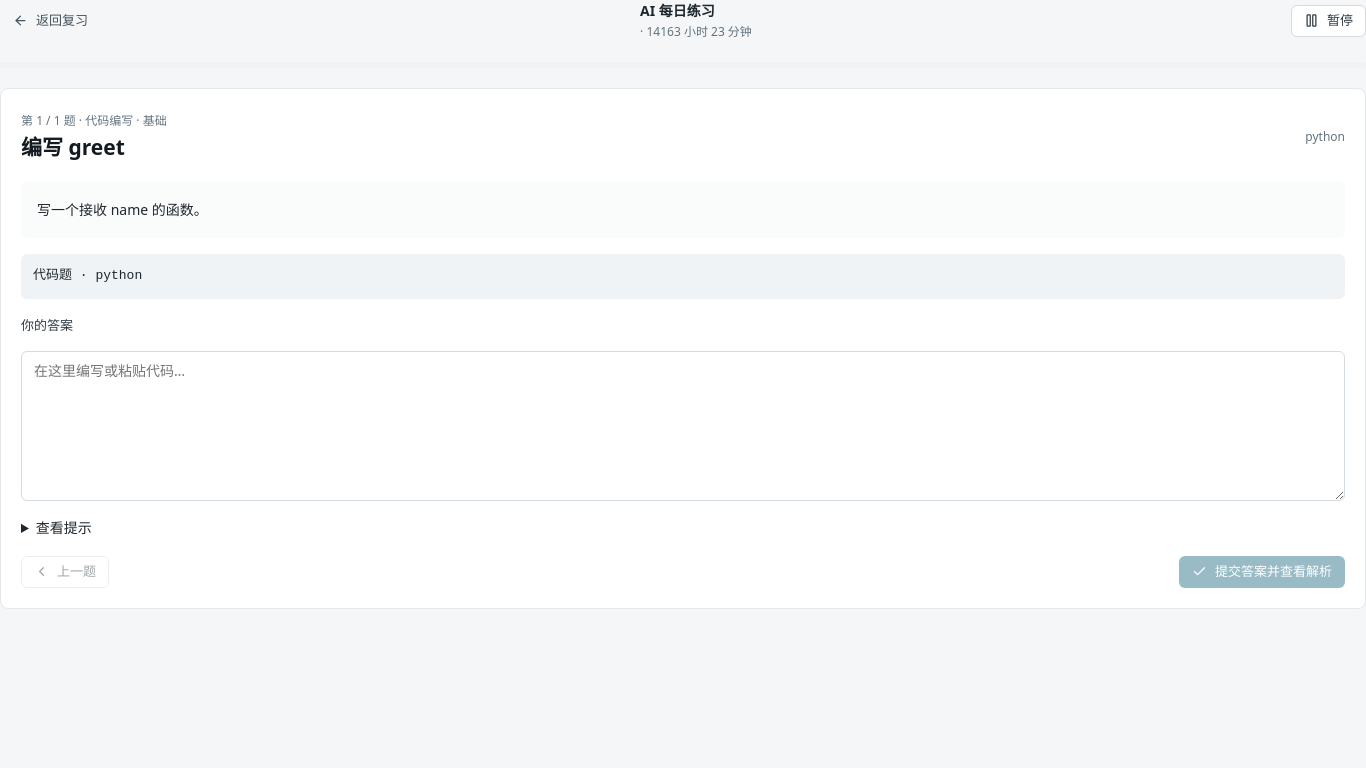
Test case: AI review runner › saves an answer before AI grading and keeps it when grading fails so the user can retry
Type "def greet(name): return name" into the text box labelled "你的答案".
click(683, 426); type("def greet(name): return name")  # box [21, 351, 1345, 501]
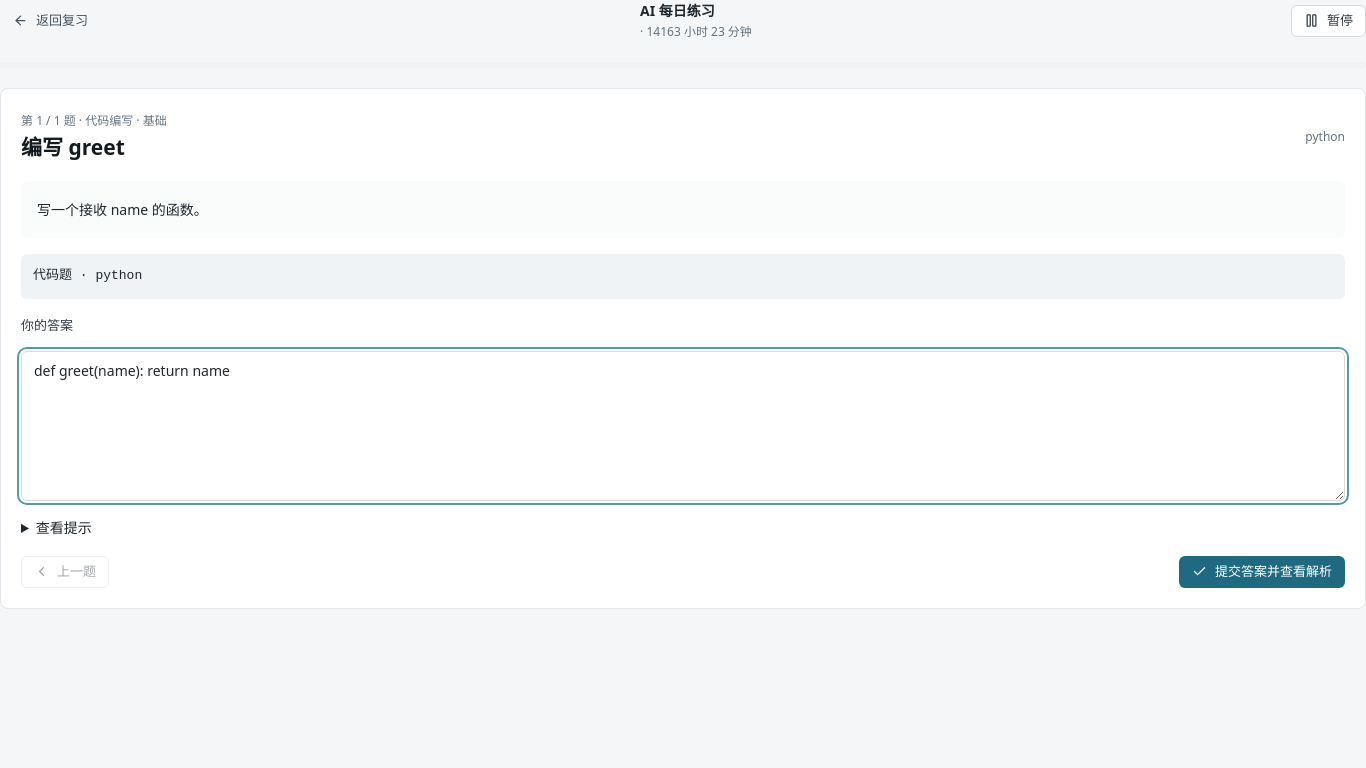
Click the button "提交答案并查看解析".
click(1262, 572)  # box [1179, 556, 1345, 588]
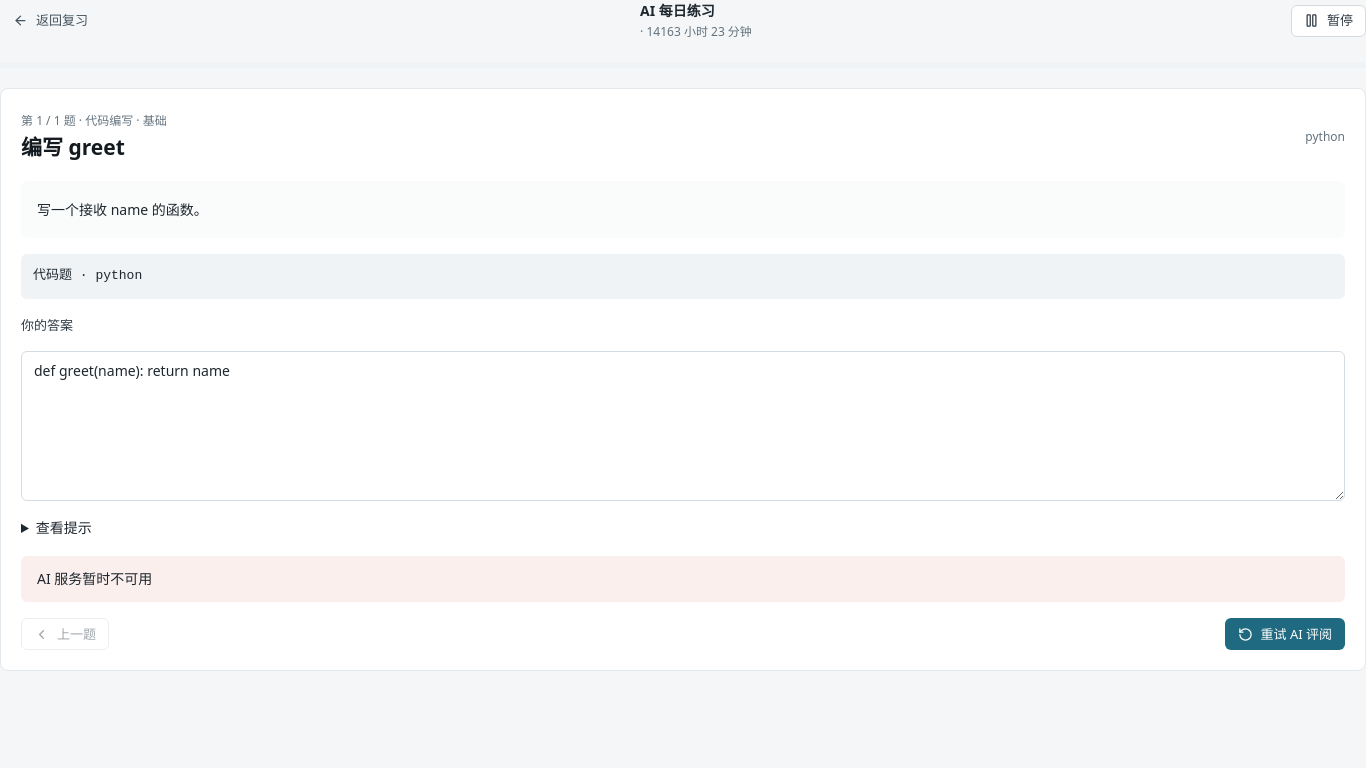
Result: the message reads "AI 服务暂时不可用" at [37, 569, 152, 588]
Click the button "重试 AI 评阅".
click(1285, 634)  # box [1224, 618, 1345, 650]
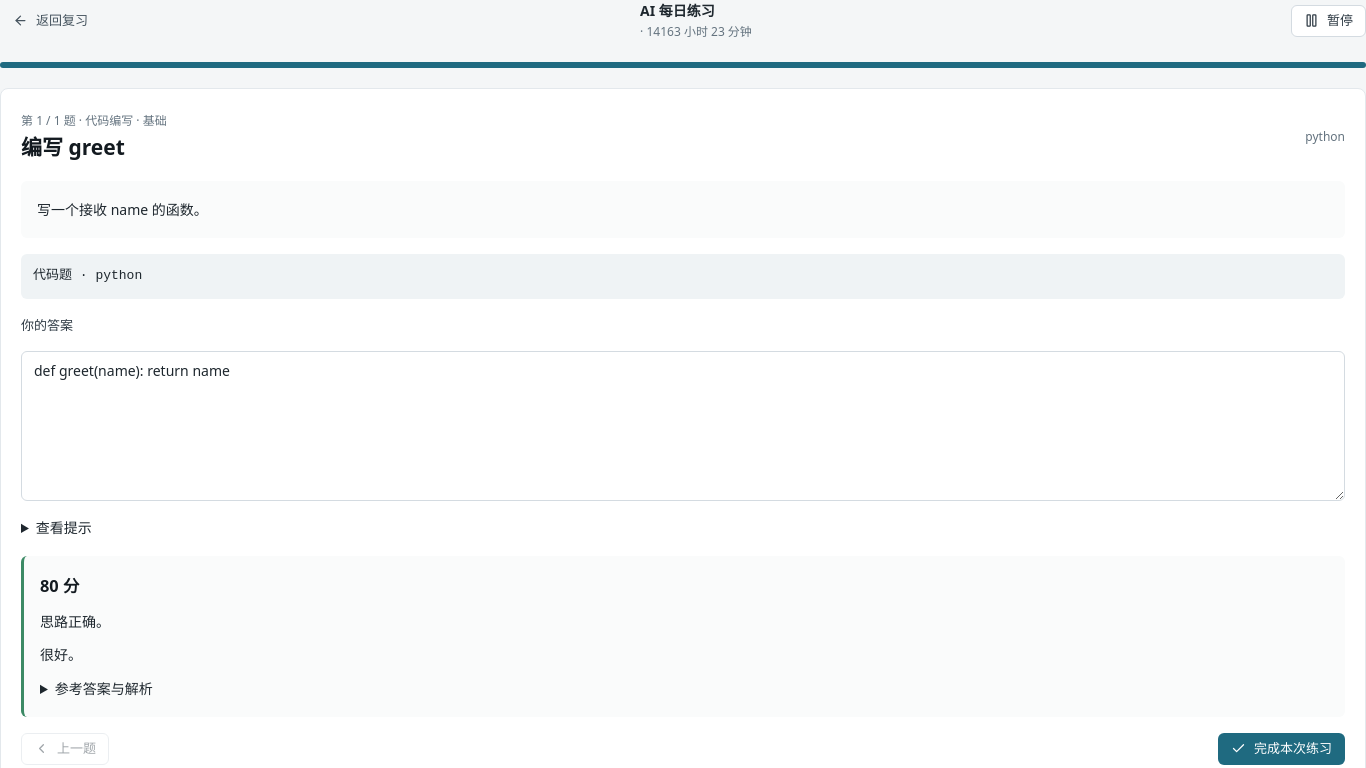
Result: the heading "80 分" is shown at [40, 575, 79, 597]
